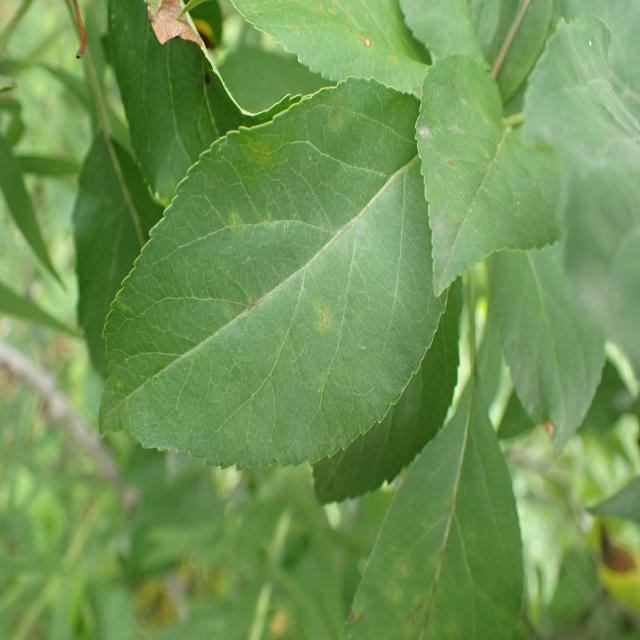scab: (134, 74, 414, 446), (349, 479, 492, 640)
